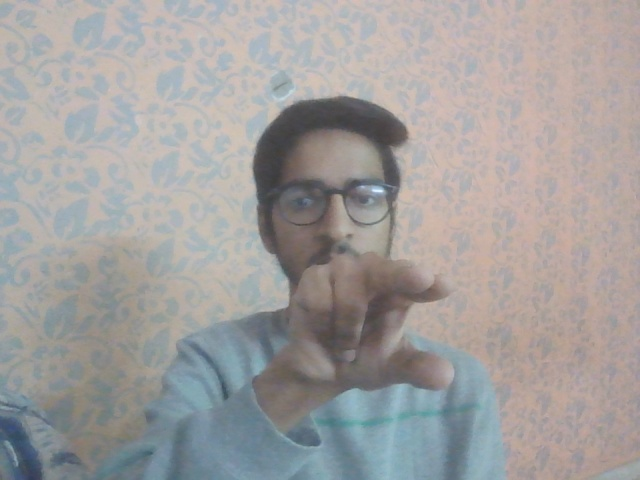No: (281, 249, 466, 402)
